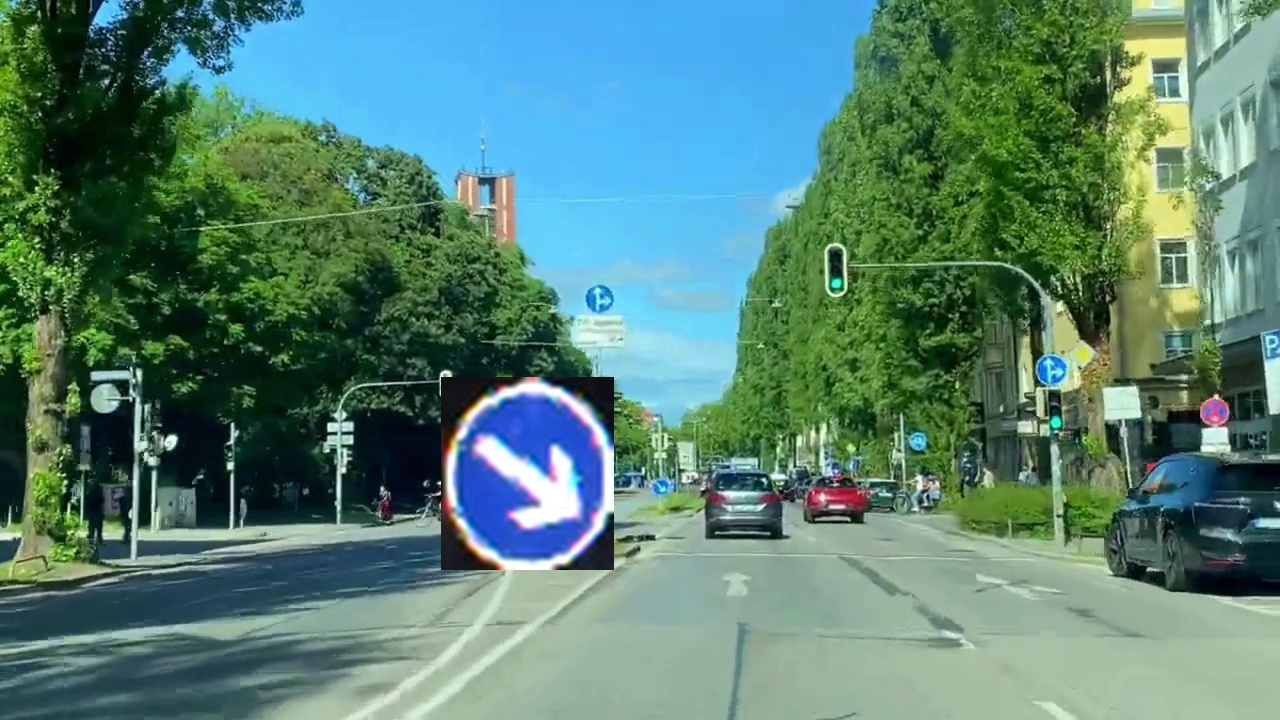Keep right: (441, 377, 614, 570)
